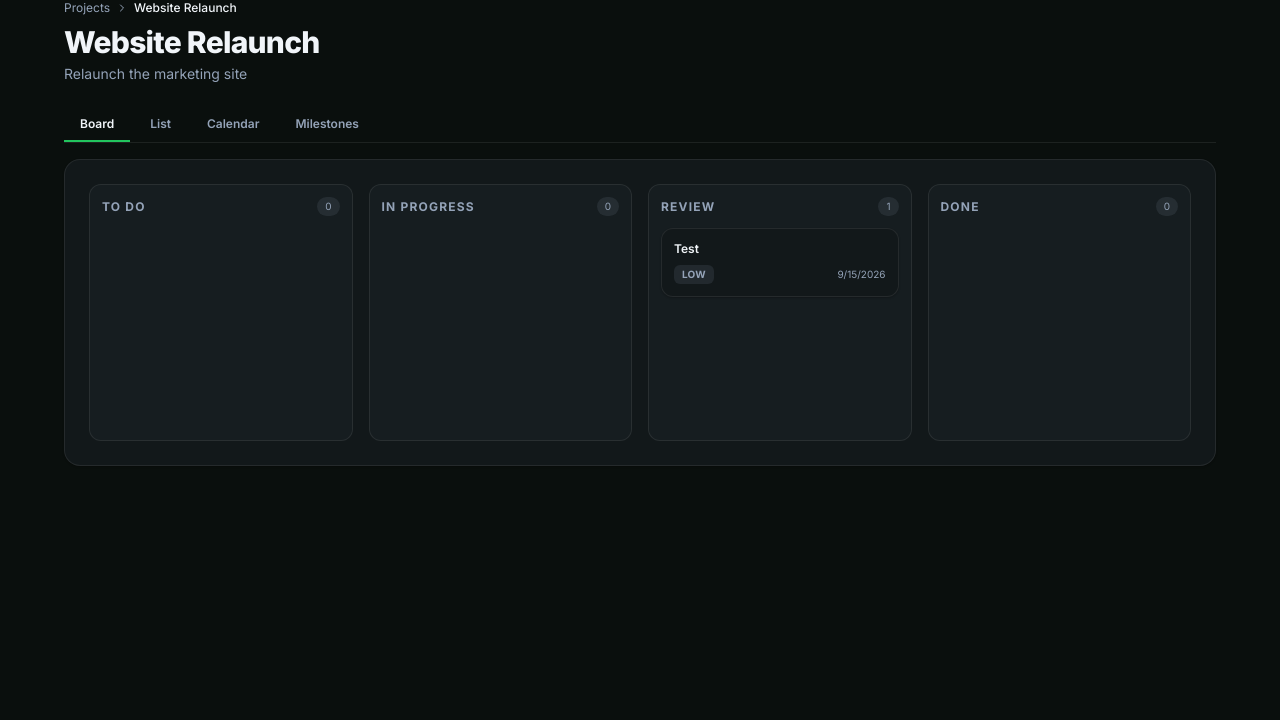
Test: ProjectDetailPage — task drawer regression (subtasks missing from list response) › opens the task drawer from the Calendar view without crashing
Click the tab "Calendar" at (233,125), box [191, 108, 276, 142]
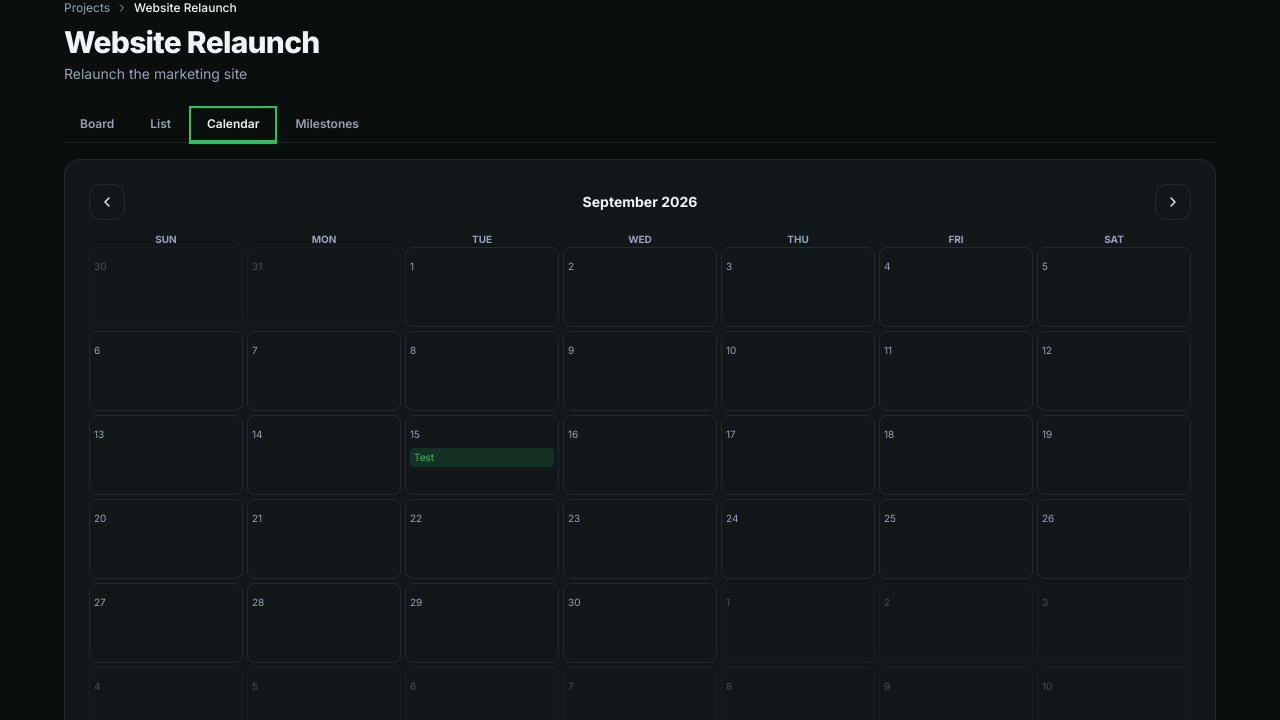
Click the button "Test" at (482,458), box [410, 448, 554, 467]
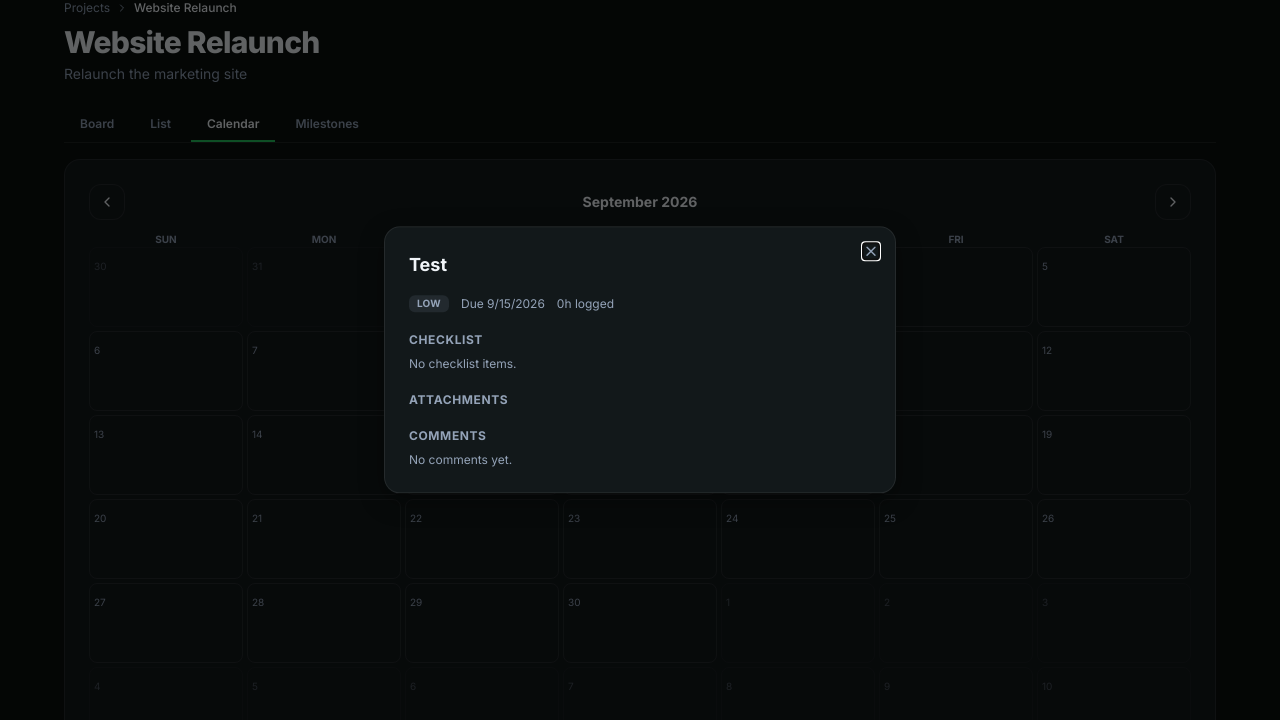
Check: the text "No checklist items." is shown, box [409, 357, 516, 372]
